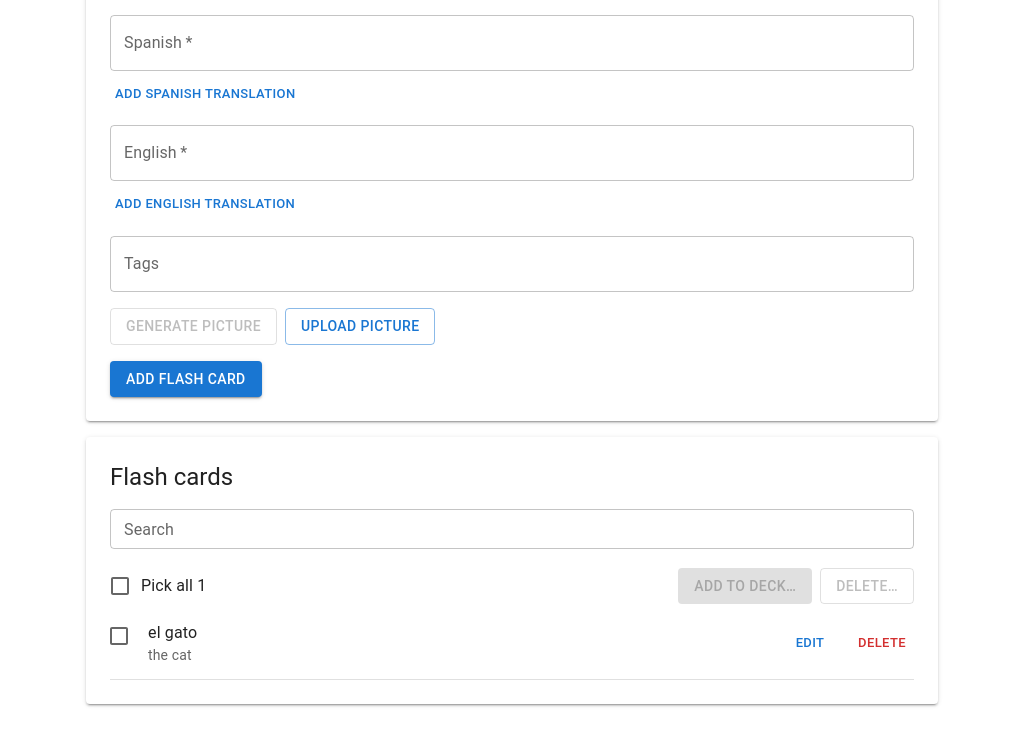
Scenario: editing a card › asks for the English instead of saving a blank one
(page scrolled)
Click the button named "Edit \"el gato\"".
click(810, 643)  # box [778,628,842,658]
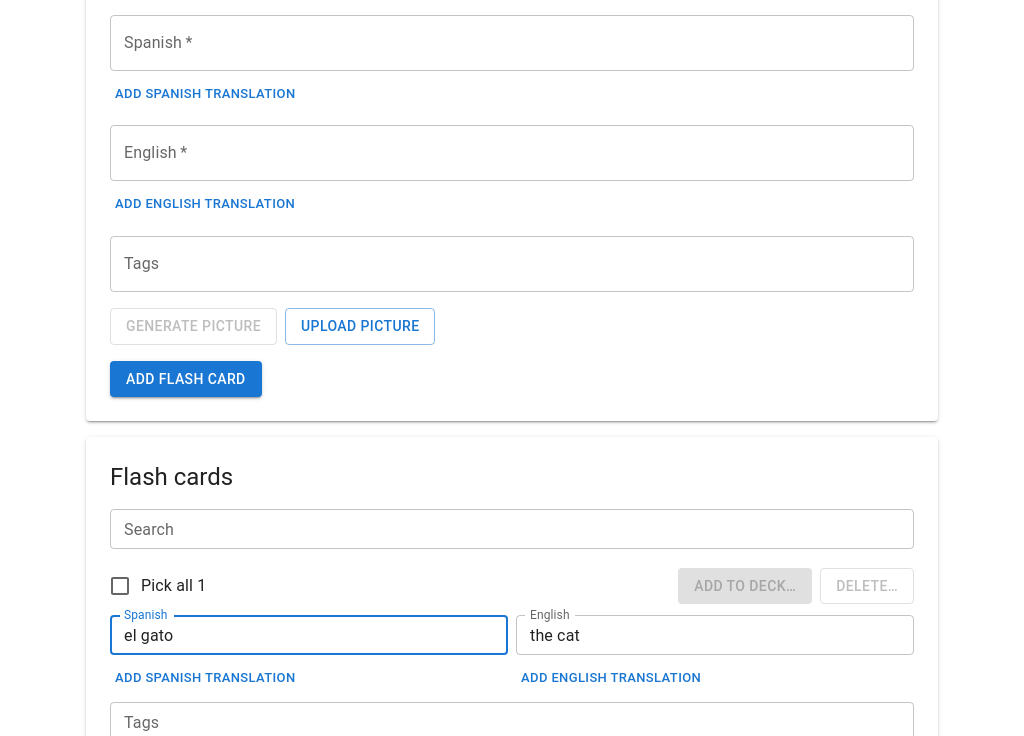
Clear the field showing "the cat" at (715, 635), box [516,615,914,655]
(page scrolled)
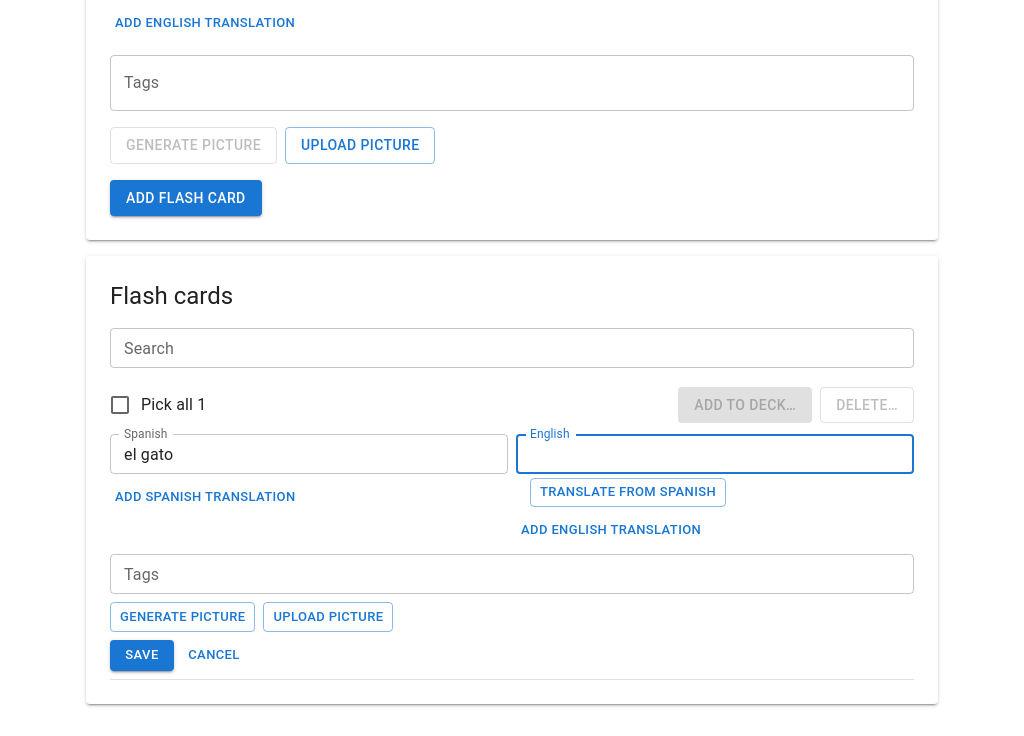
Click the button "Save".
click(142, 656)  # box [110,640,174,671]
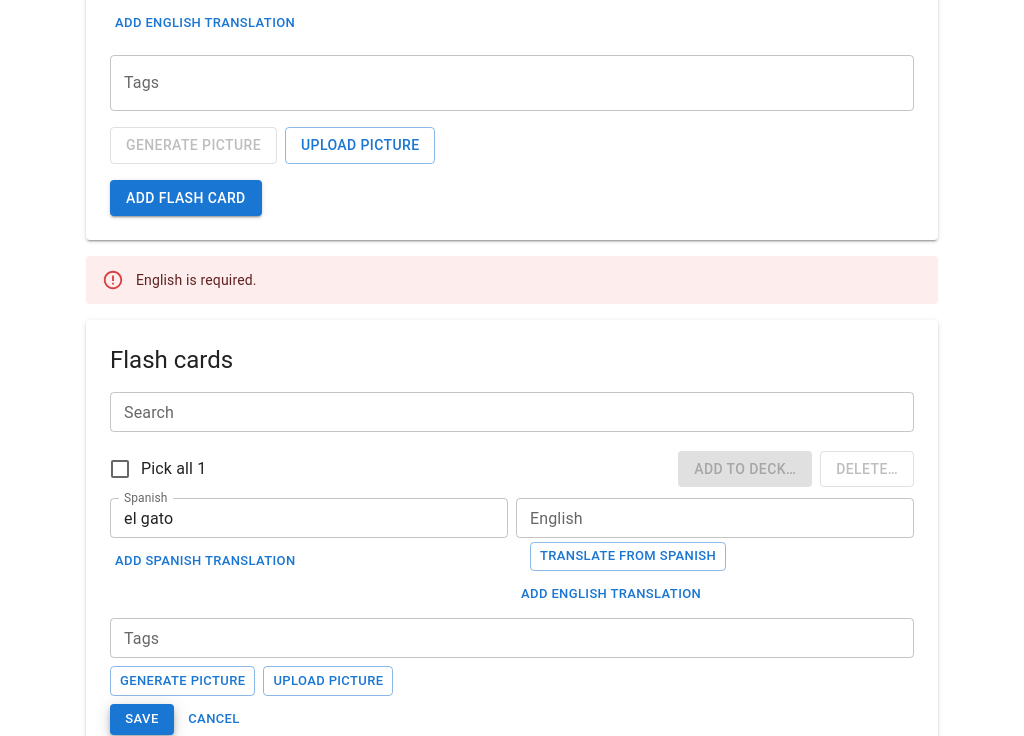
Result: the button "Save" is shown at [110,704,174,735]
Result: the message reads "English is required." at [136,272,257,288]
